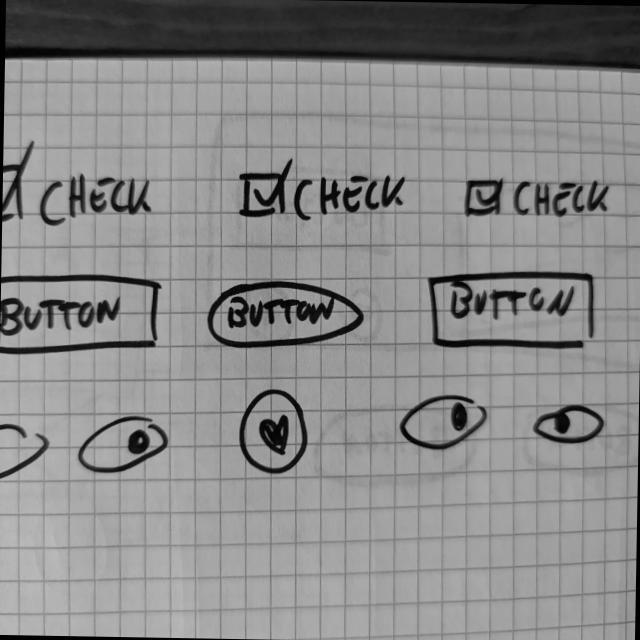button: (424, 265, 600, 356), (1, 270, 162, 362), (207, 277, 369, 355)
checkbox: (237, 156, 410, 231), (3, 157, 161, 237), (461, 173, 617, 229)
icon-button: (236, 383, 315, 476)
toggle: (78, 409, 173, 482), (396, 390, 495, 456), (1, 420, 52, 489), (532, 400, 606, 447)
